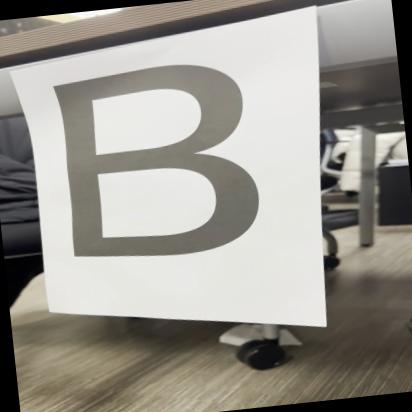seat: (21, 50, 289, 278)
